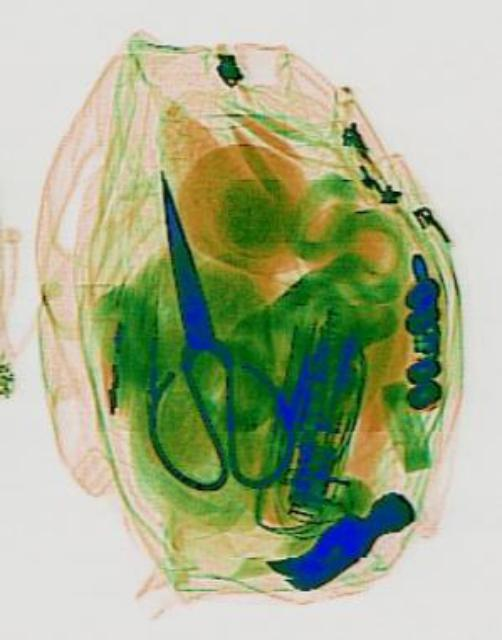Scissors: (91, 145, 302, 509)
